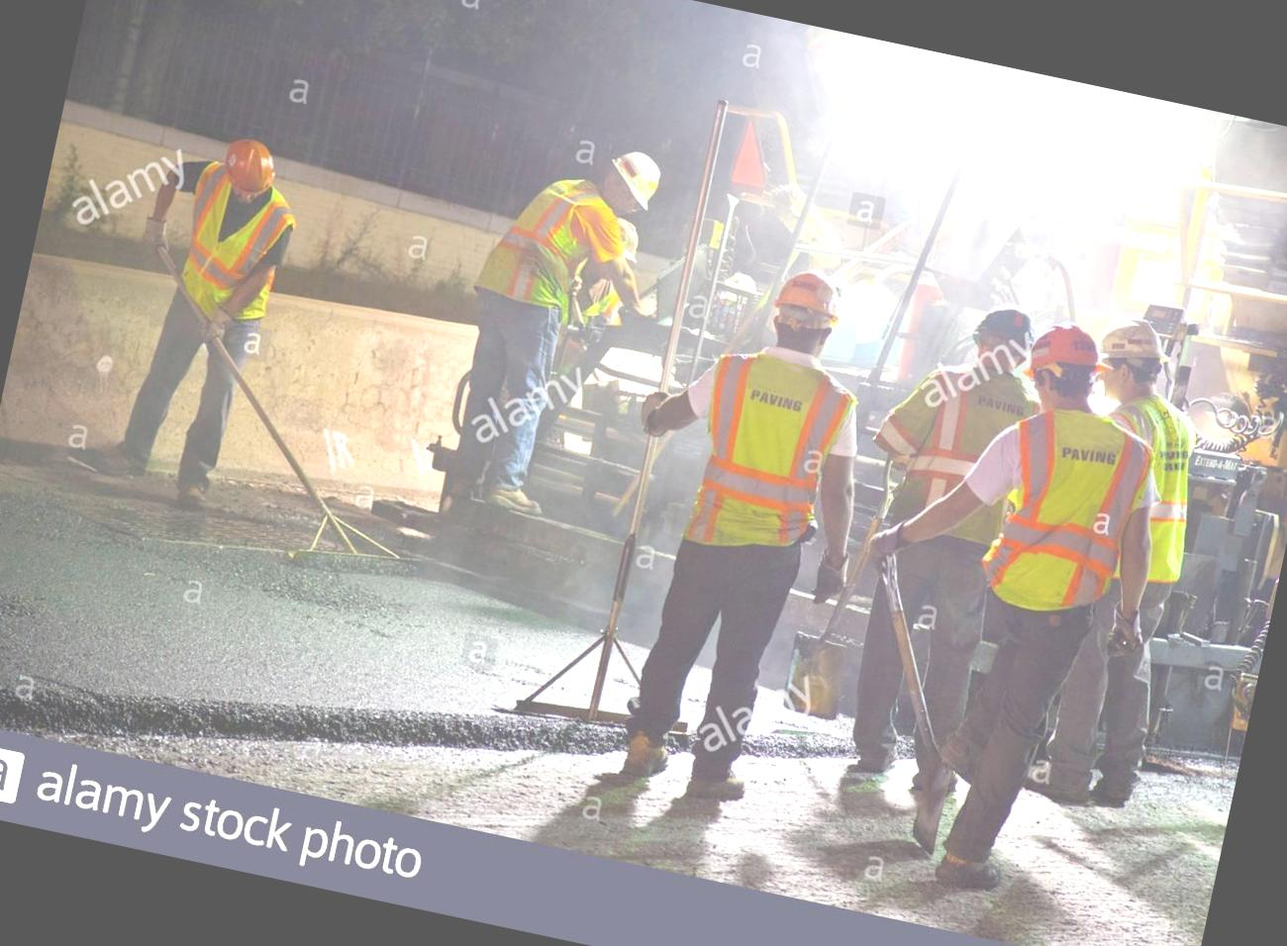helmet: (588, 141, 667, 220)
person: (593, 241, 912, 825), (891, 314, 1186, 917), (817, 290, 1028, 782), (433, 114, 676, 531), (78, 112, 315, 534)
